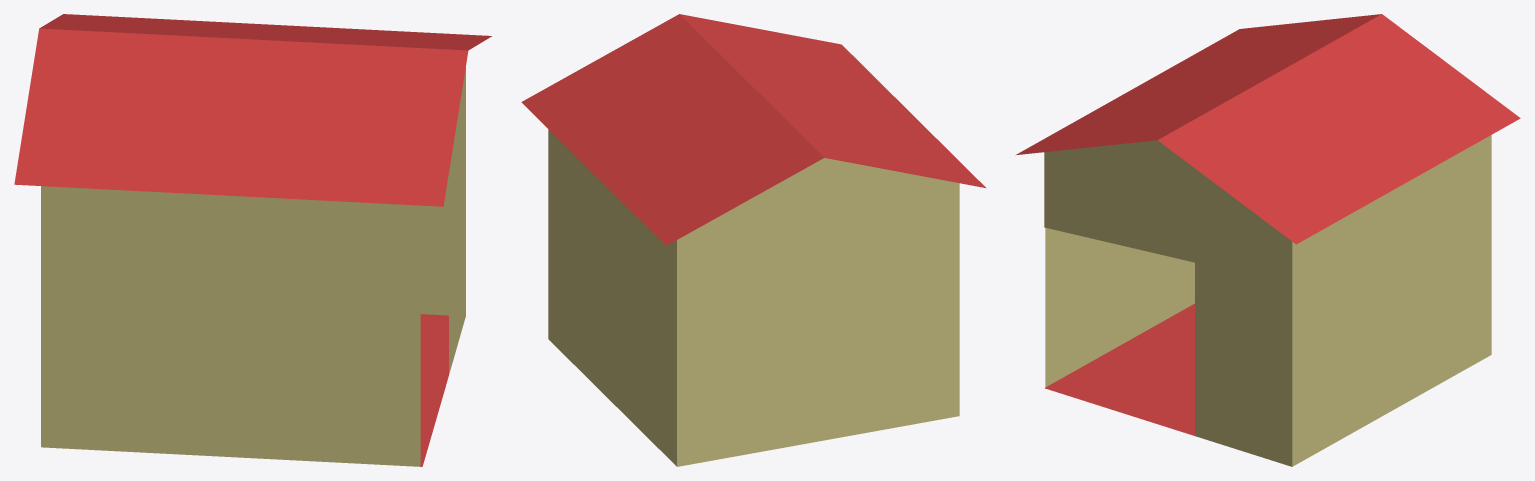
The picture shows the model from 3 angles, left to right: view 1: azimuth 30°, elevation 25°; view 2: azimuth 150°, elevation 25°; view 3: azimuth 270°, elevation 25°; orthographic projection. The views are drawn at different scales.
Bounding box in the file's own units: 18.41 × 18.25 × 11.74.
